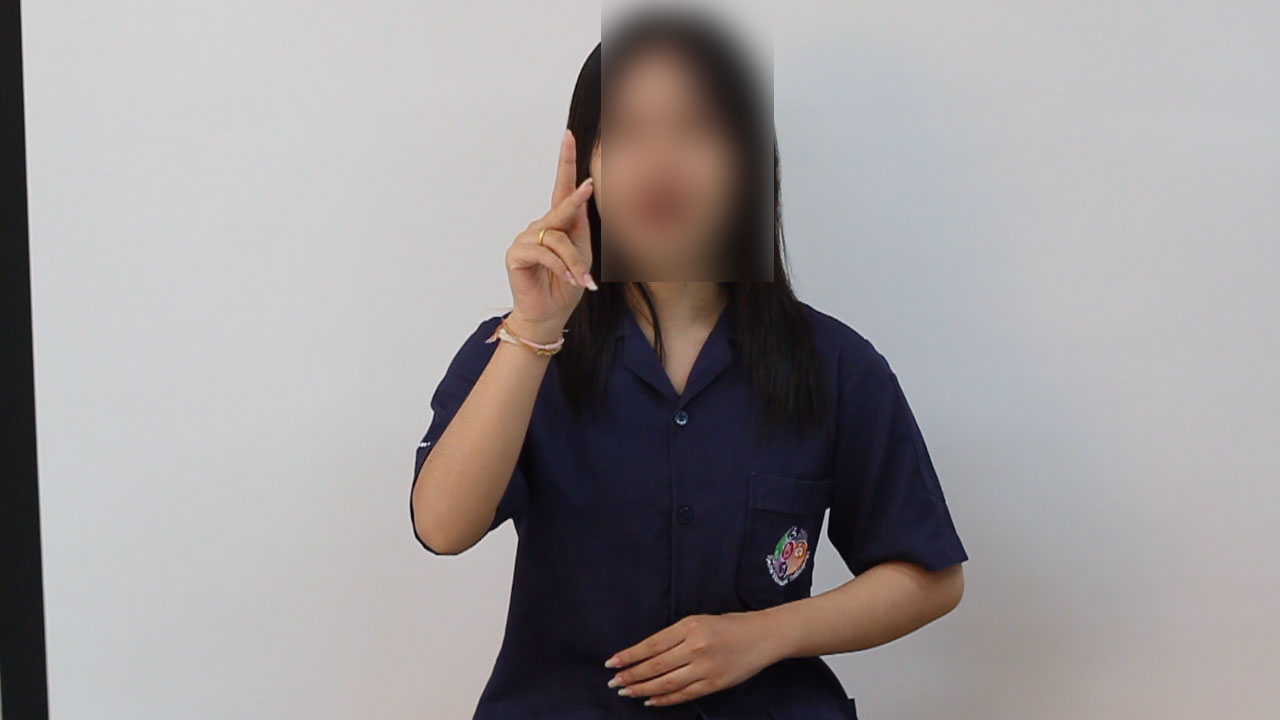ko: (457, 130, 629, 372)
